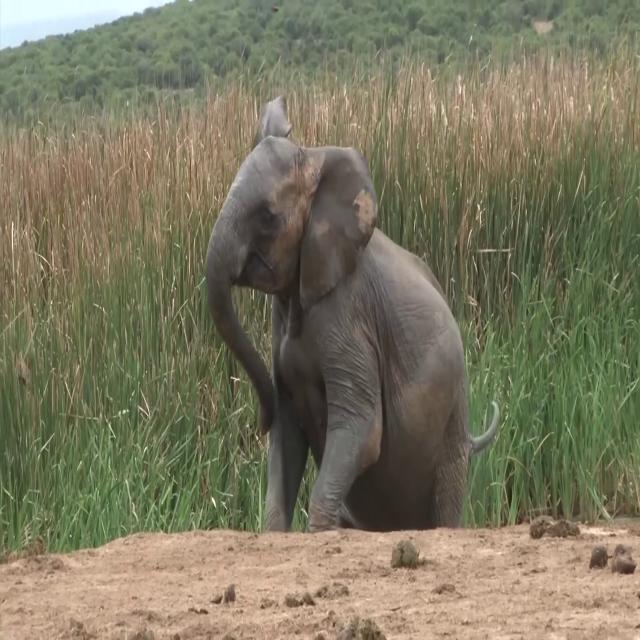Elephant: (205, 100, 500, 534)
